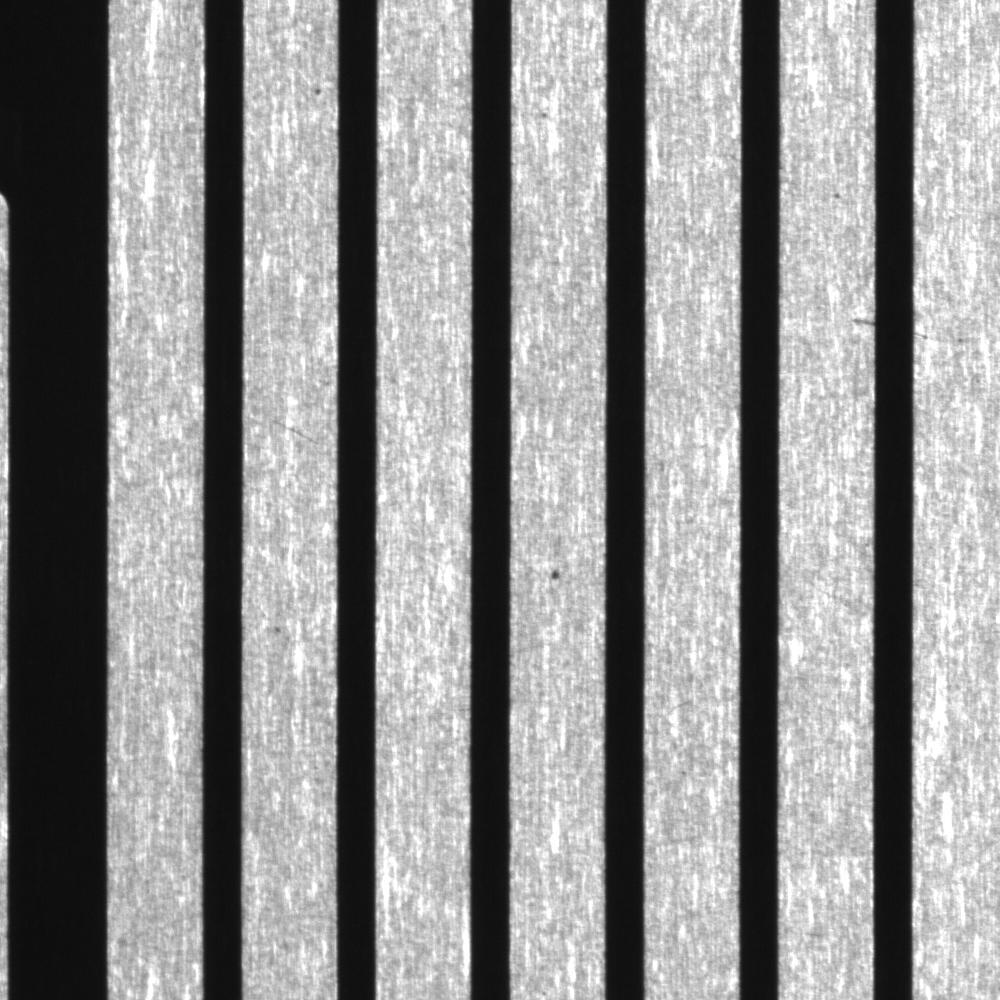Etching: (262, 612, 293, 641)
Pinhole: (303, 75, 332, 104), (531, 103, 559, 130), (541, 560, 566, 587), (826, 181, 849, 208)
Scar: (261, 416, 328, 450), (913, 323, 987, 352), (838, 295, 877, 342)
